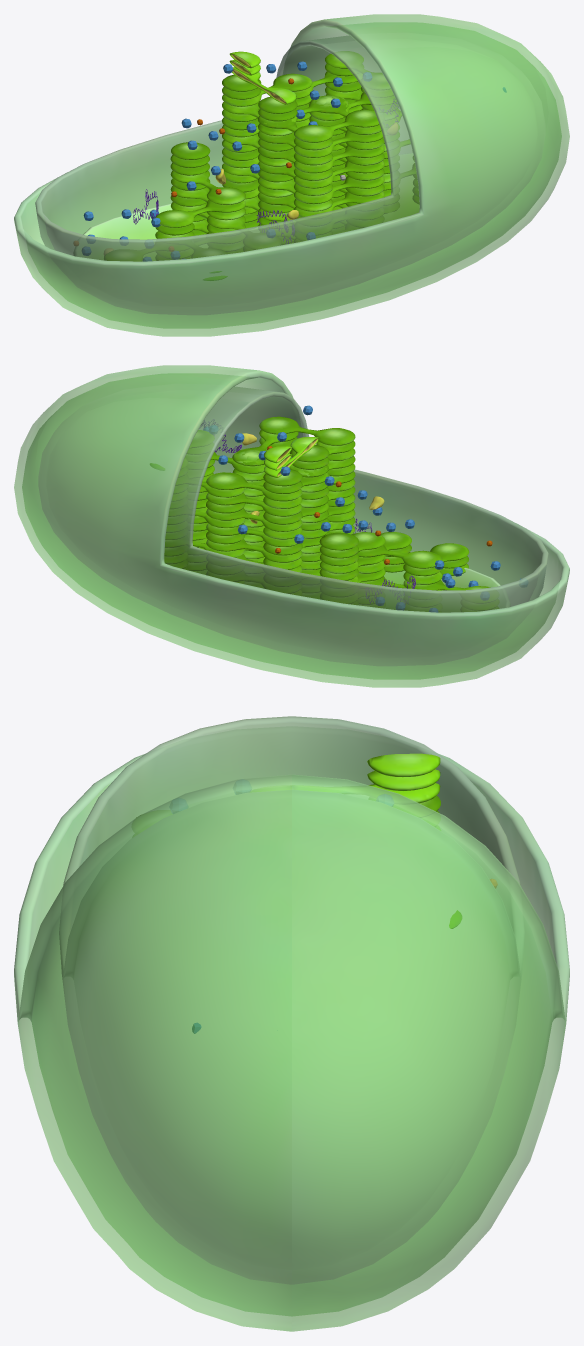
File: chloroplast.glb
3 views of the same model, one above another, from view 1: azimuth 30°, elevation 25°; view 2: azimuth 150°, elevation 25°; view 3: azimuth 270°, elevation 25° (orthographic). The views are drawn at different scales.
Parts seen in each view (by area): view 1: Box142_1_0; view 2: Box142_1_0; view 3: Box142_1_0.
Part boxes in pixels (x1,y1,x2,y2): Box142_1_0: (14,14,569,336); Box142_1_0: (14,365,569,687); Box142_1_0: (14,716,569,1331).
Bounding box in the file's own units: 2.26 × 1.08 × 1.09.
1 material, 1 textured.
